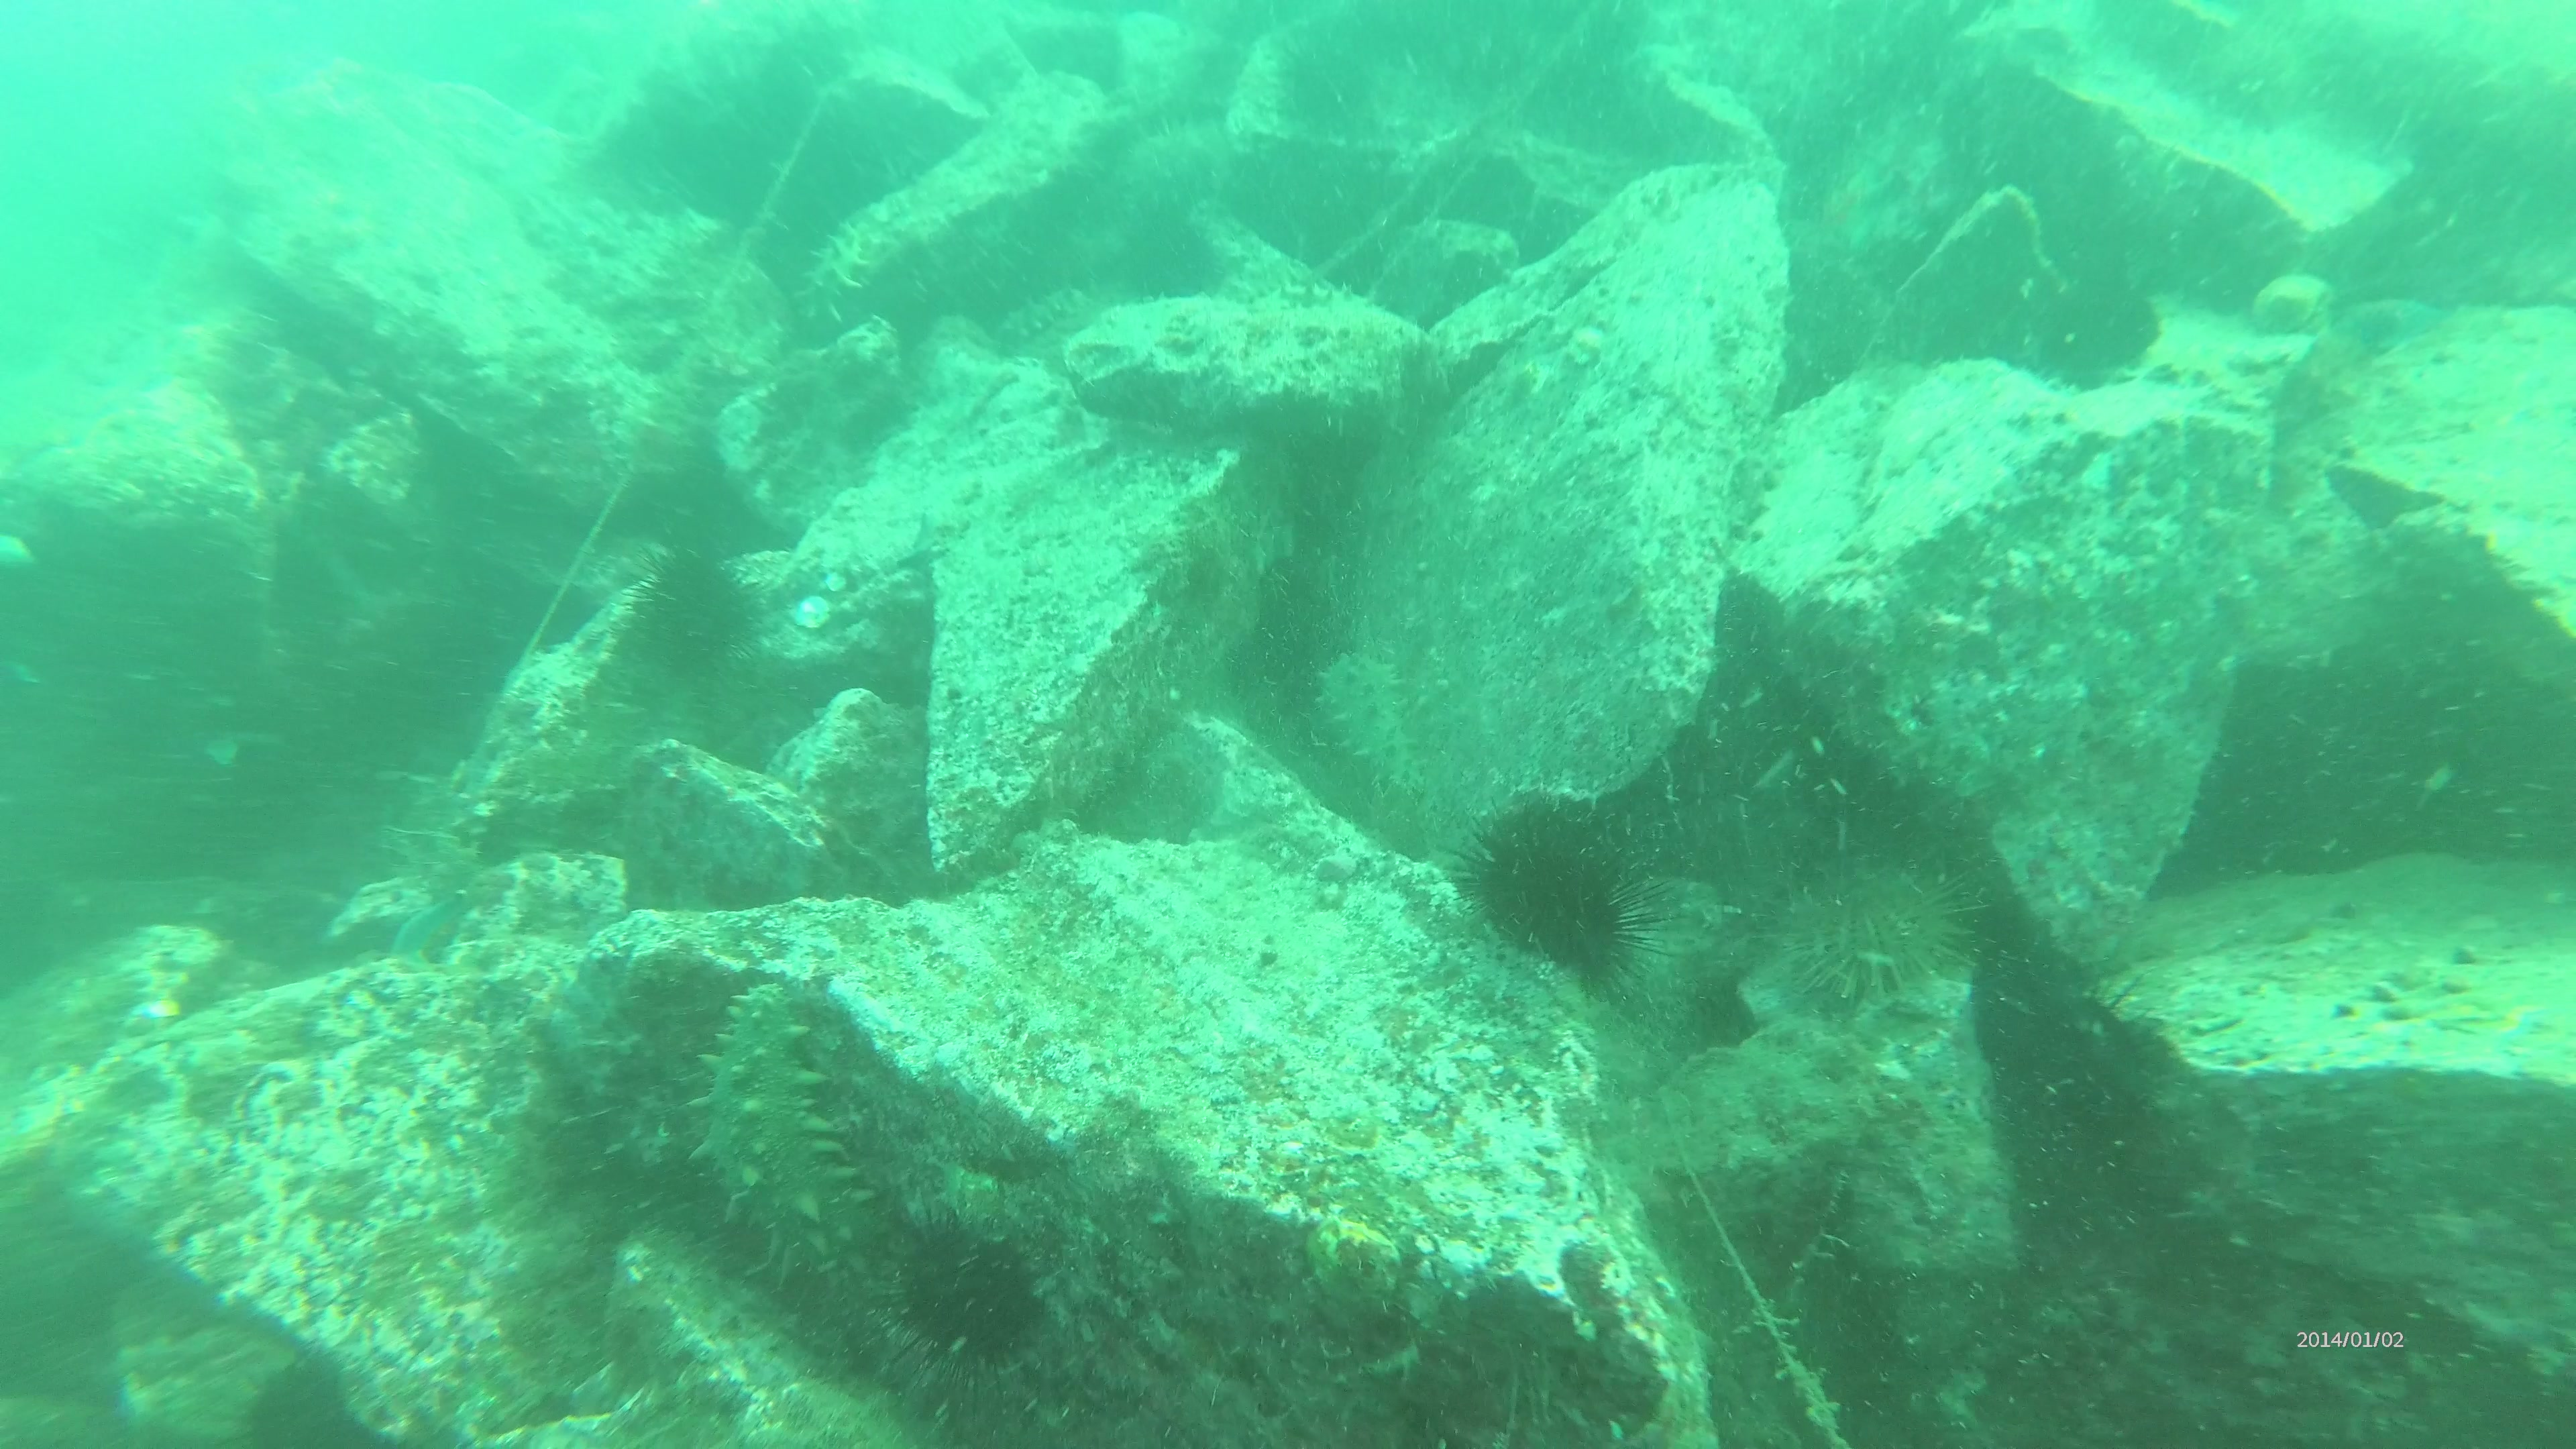echinus: (1438, 805, 1688, 1014), (1960, 938, 2162, 1161), (1771, 837, 1983, 1021), (885, 1205, 1044, 1378), (610, 557, 766, 692), (2017, 272, 2181, 387), (1093, 115, 1244, 232), (232, 1355, 398, 1449)
holothurian: (686, 985, 874, 1304), (1299, 644, 1421, 816), (796, 219, 867, 331), (991, 292, 1099, 341)
starfish: (384, 895, 469, 970)
